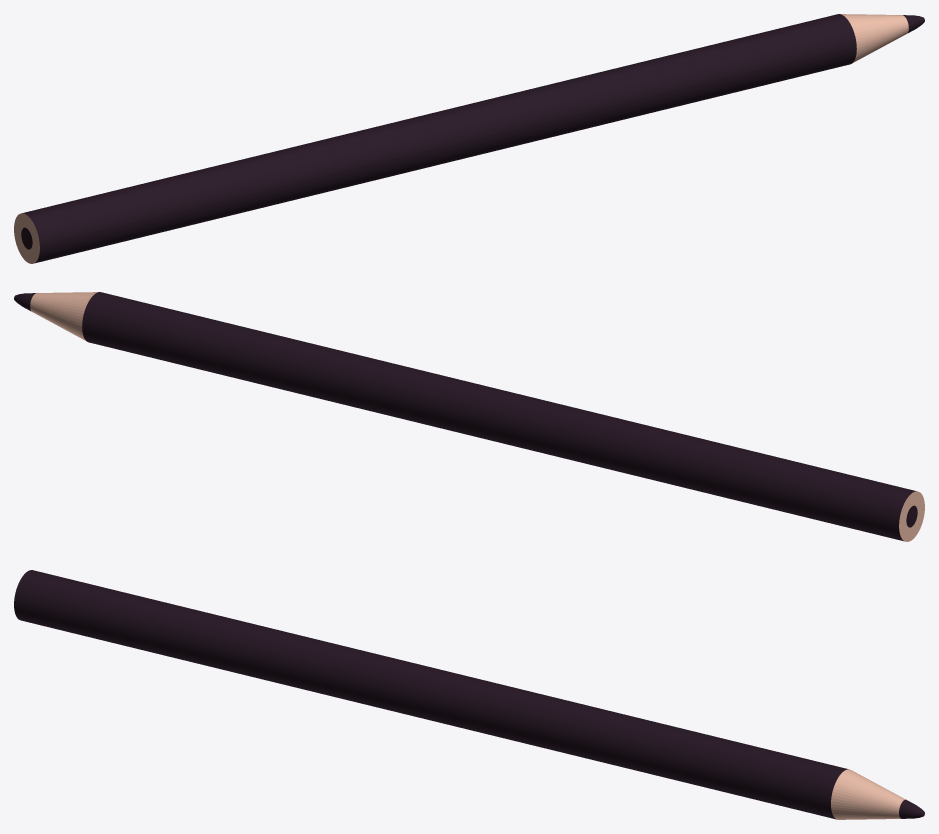
The model's file is Lapis preto.fbx.
The picture shows the model from 3 angles, top to bottom: view 1: azimuth 30°, elevation 25°; view 2: azimuth 150°, elevation 25°; view 3: azimuth 330°, elevation 25°; orthographic projection.
Parts seen in each view (by area): view 1: Lapis preto; view 2: Lapis preto; view 3: Lapis preto.
Part boxes in pixels (box(x1,y1,x2,y2)): Lapis preto: box(14, 14, 924, 263); Lapis preto: box(14, 292, 924, 541); Lapis preto: box(14, 570, 924, 819).
Bounding box in the file's own units: 68.32 × 3.41 × 3.42.
